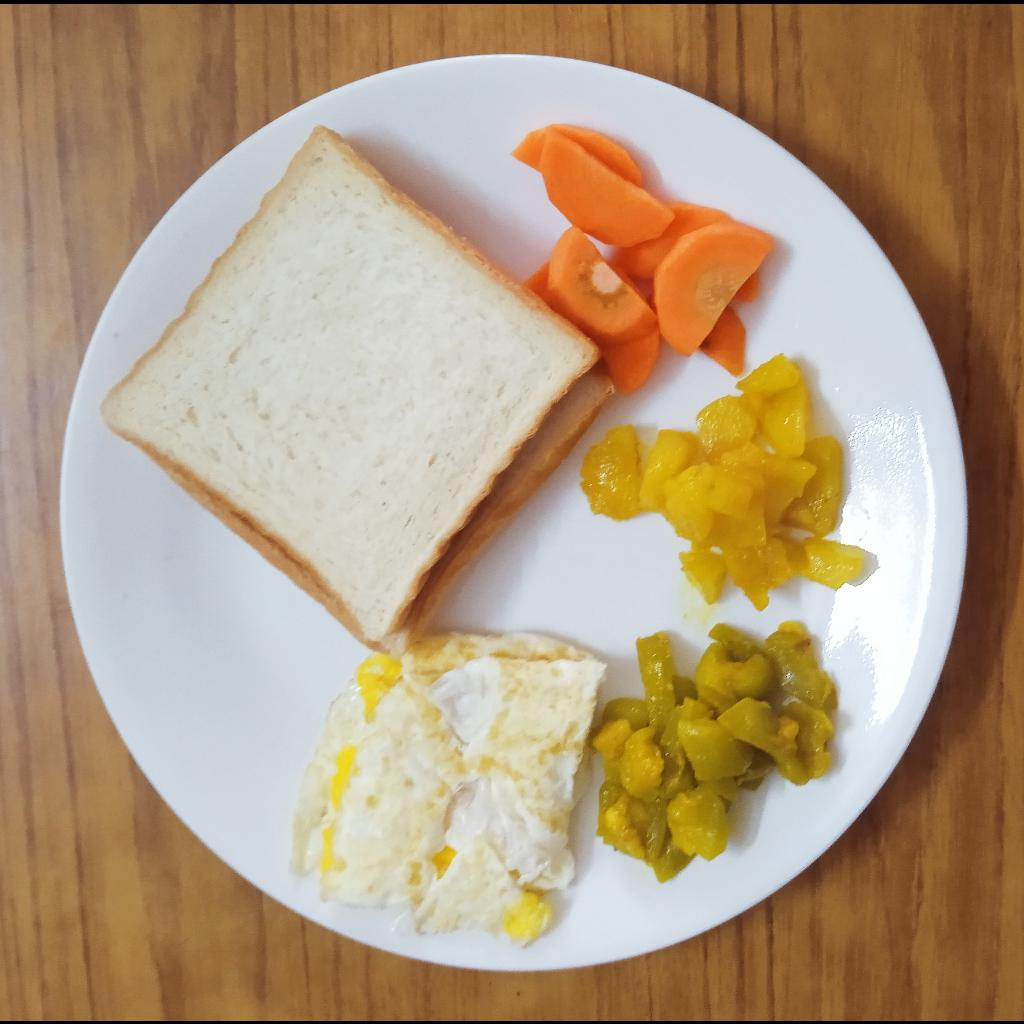bread: (100, 124, 614, 648)
carrot: (508, 122, 777, 393)
egg-poached: (288, 633, 604, 949)
kumra-vaji: (581, 355, 869, 614)
lau: (596, 622, 837, 886)
